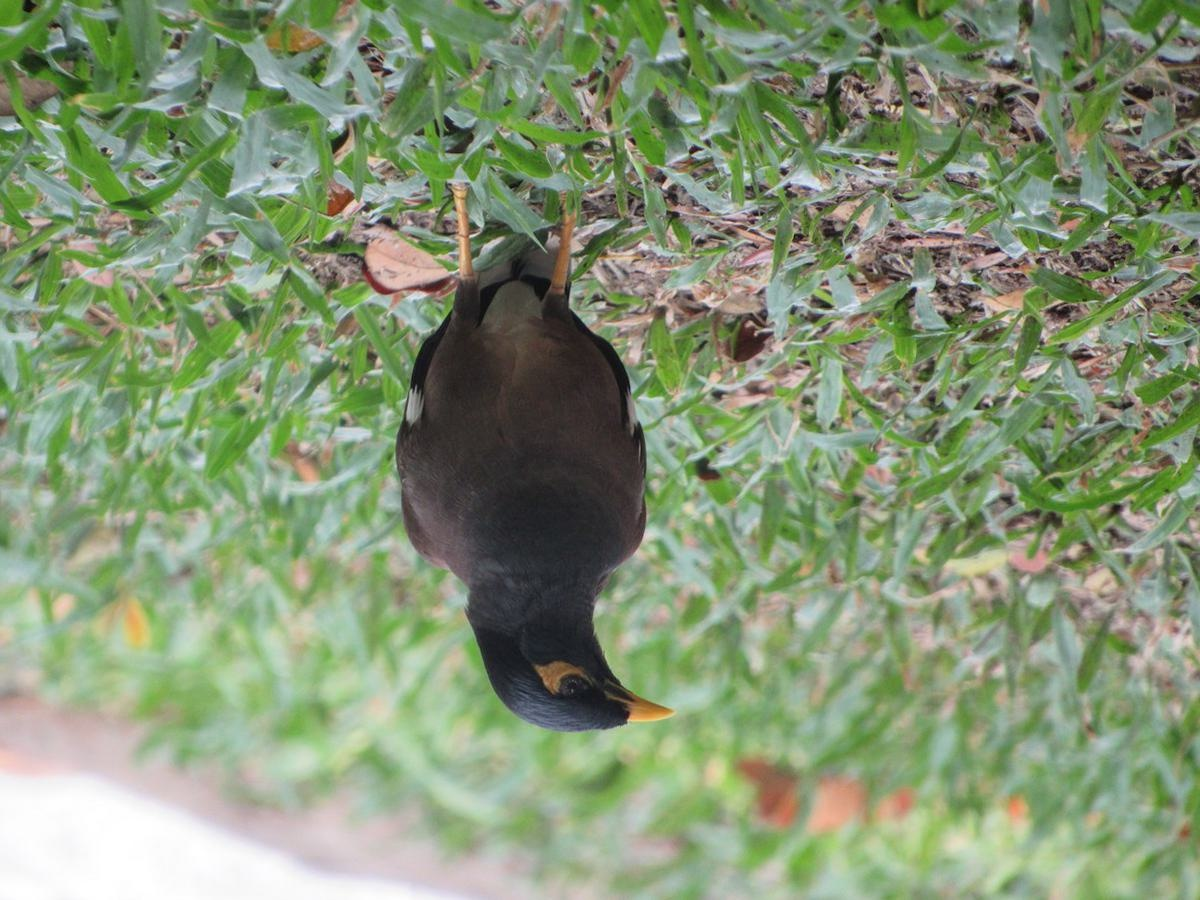myna: (374, 203, 787, 795)
